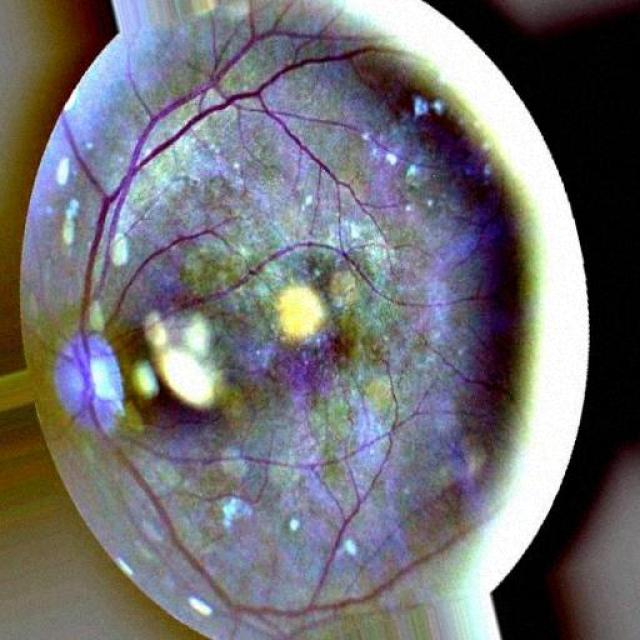Nerves: (56, 14, 450, 625)
Optic Disk: (57, 334, 124, 428)
